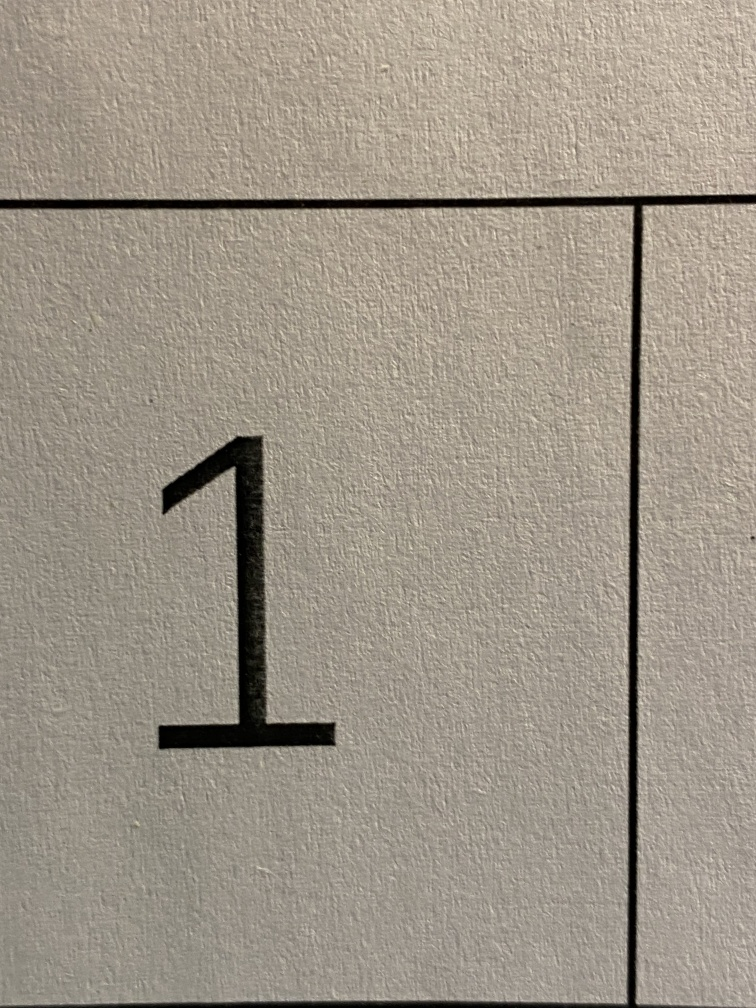one: (128, 407, 361, 807)
